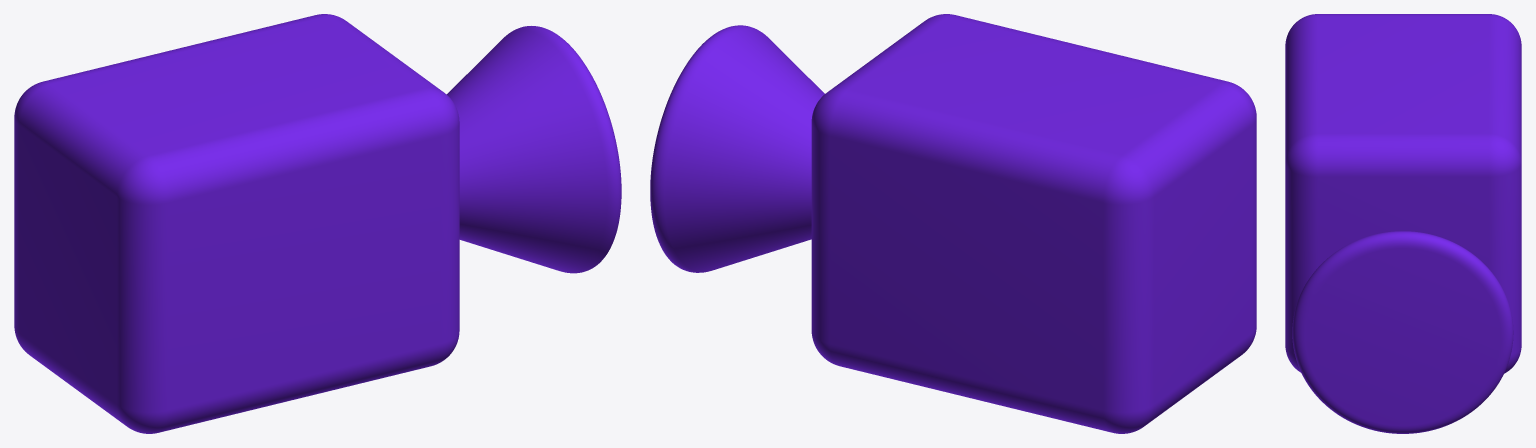
The model's file is camera.glb.
The picture shows the model from 3 angles, left to right: view 1: azimuth 30°, elevation 25°; view 2: azimuth 150°, elevation 25°; view 3: azimuth 270°, elevation 25°; orthographic projection. The views are drawn at different scales.
Visible parts, largest first — view 1: Cone.001_Cone.007; view 2: Cone.001_Cone.007; view 3: Cone.001_Cone.007.
Part boxes in pixels (x1=…): Cone.001_Cone.007: x1=14, y1=14, x2=621, y2=433; Cone.001_Cone.007: x1=650, y1=14, x2=1256, y2=433; Cone.001_Cone.007: x1=1285, y1=14, x2=1521, y2=433.
Bounding box in the file's own units: 33.19 × 17.63 × 15.68.
